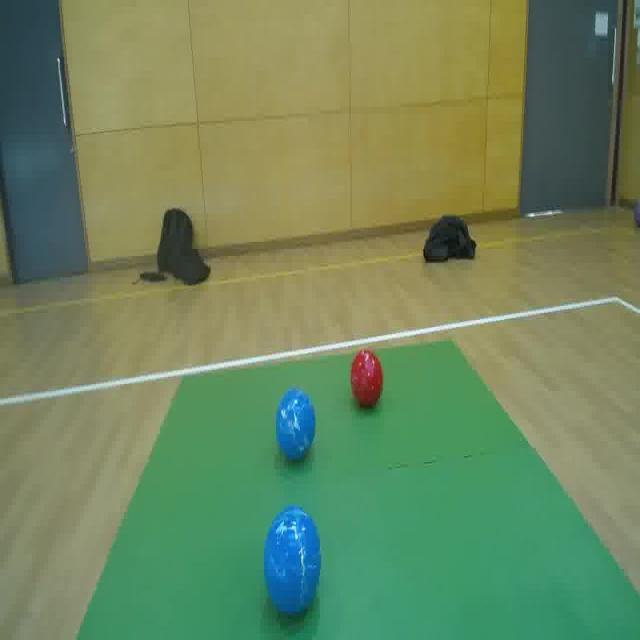blue_ball: (260, 500, 320, 625), (275, 380, 317, 472)
red_ball: (347, 347, 386, 409)
